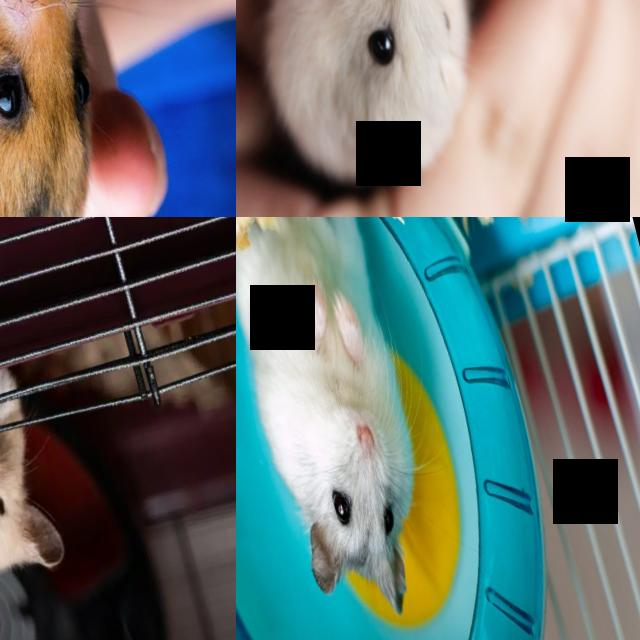hamster: (236, 217, 457, 638), (236, 0, 504, 203), (0, 0, 140, 217), (0, 367, 81, 638)
